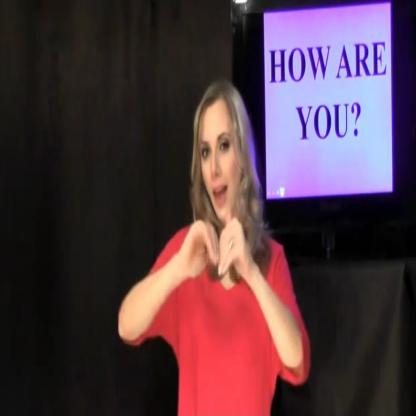HowAreYou: (179, 200, 250, 294)
